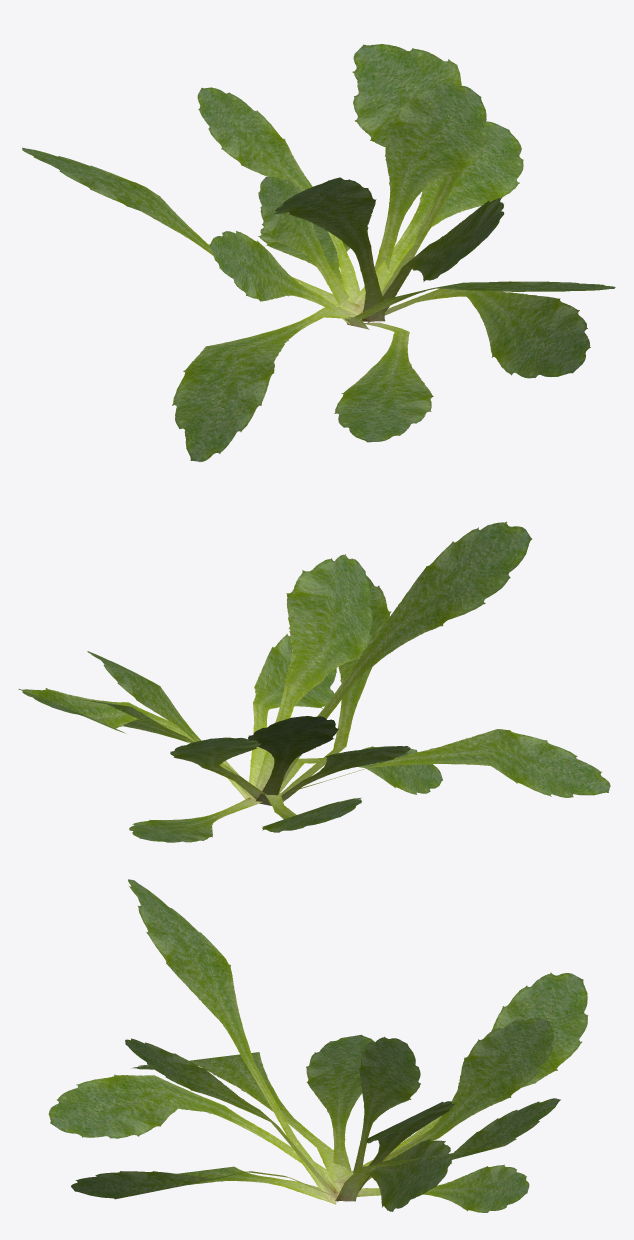
The model's file is daisyA_noFlower_u10cm_tri_decim005.obj.
3 renders of one model, top to bottom at view 1: azimuth 30°, elevation 25°; view 2: azimuth 150°, elevation 25°; view 3: azimuth 270°, elevation 25°, orthographic. The views are drawn at different scales.
Visible parts, largest first — view 1: daisyA; view 2: daisyA; view 3: daisyA.
Boxes of the visible parts, bbox=[...] form: daisyA: bbox=[22, 44, 615, 462]; daisyA: bbox=[18, 521, 610, 842]; daisyA: bbox=[48, 879, 588, 1212].
Size of the model in its own units: 0.9649 by 0.5572 by 1.06.
